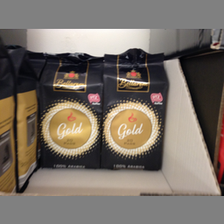coffee: (102, 47, 169, 171), (35, 52, 104, 170)
